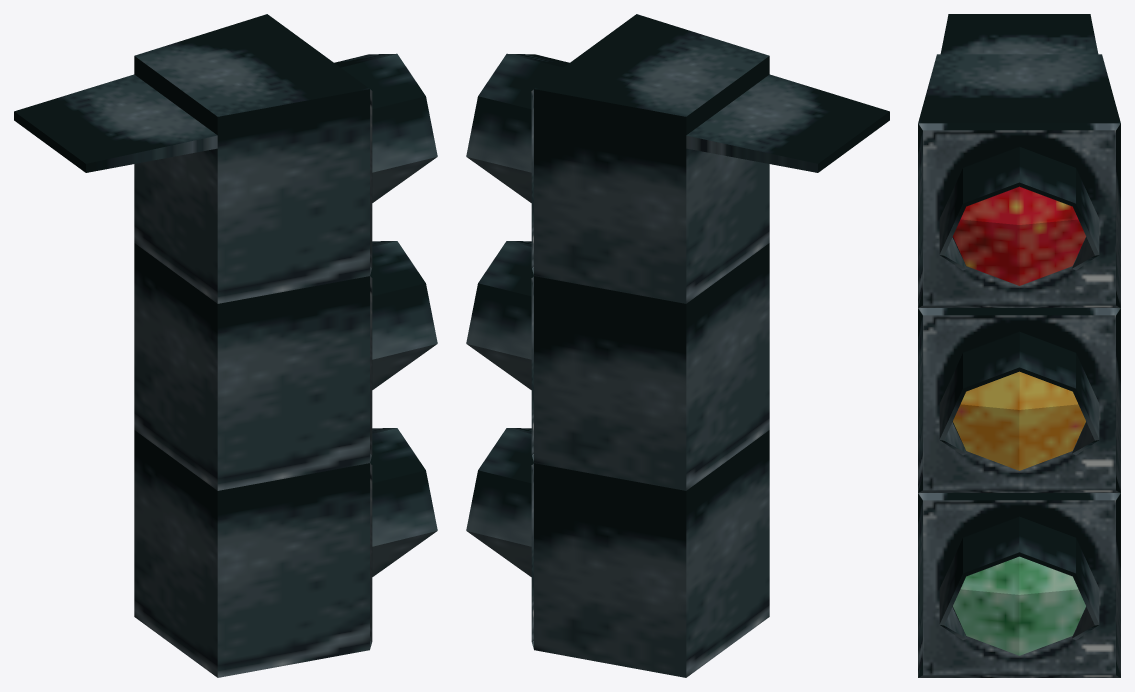
File: light_top.fbx
The picture shows the model from 3 angles, left to right: view 1: azimuth 30°, elevation 25°; view 2: azimuth 150°, elevation 25°; view 3: azimuth 270°, elevation 25°; orthographic projection.
Parts seen in each view (by area): view 1: light_top; view 2: light_top; view 3: light_top.
Boxes of the visible parts, <box> form: light_top: <box>14,14,437,677</box>; light_top: <box>466,14,889,677</box>; light_top: <box>918,14,1120,677</box>.
Bounding box in the file's own units: 72.72 × 112 × 37.19.
Materials: 1 (1 with a texture image).
